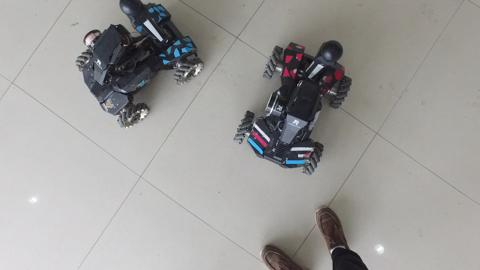chariot: (229, 35, 355, 179), (66, 1, 209, 127)
